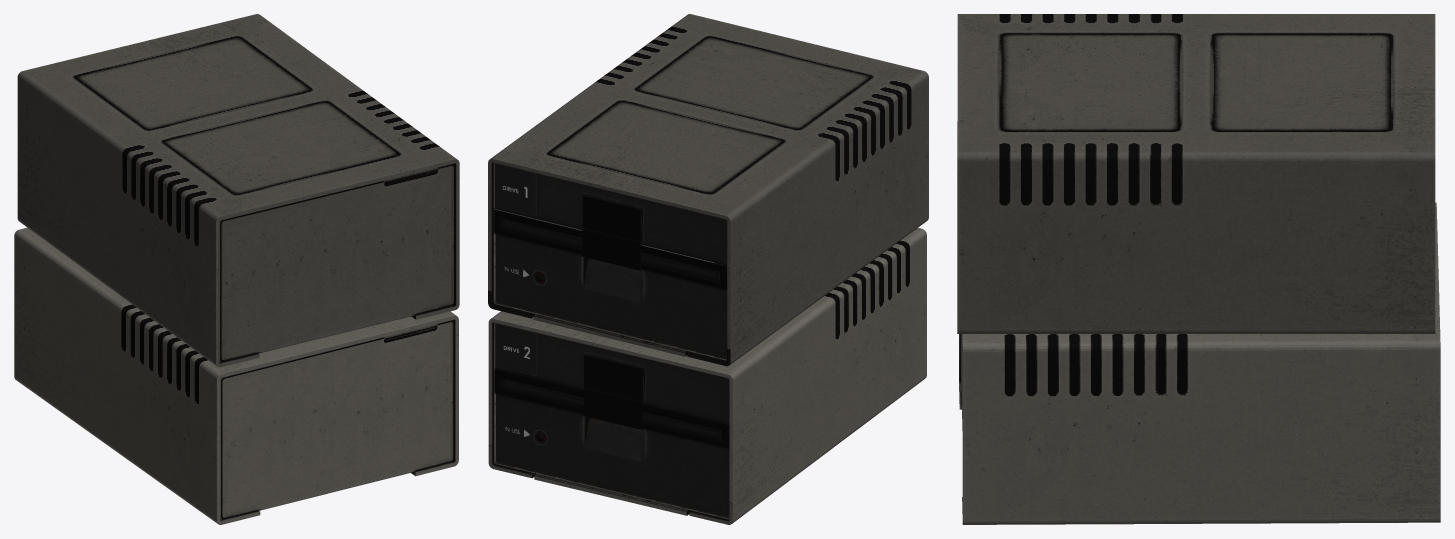
File: 5_25_drives.obj
3 renders of one model, left to right at view 1: azimuth 30°, elevation 25°; view 2: azimuth 150°, elevation 25°; view 3: azimuth 270°, elevation 25°, orthographic. The views are drawn at different scales.
Visible parts, largest first — view 1: 5_25_drives; view 2: 5_25_drives; view 3: 5_25_drives.
Boxes of the visible parts, x1=… form: 5_25_drives: x1=14, y1=14, x2=459, y2=524; 5_25_drives: x1=488, y1=14, x2=928, y2=524; 5_25_drives: x1=957, y1=14, x2=1440, y2=524.
Size of the model in its own units: 0.82 by 1 by 1.15.
